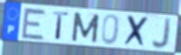0: (100, 13, 121, 46)
E: (20, 6, 48, 42)
J: (150, 16, 173, 51)
M: (70, 11, 101, 44)
T: (52, 10, 70, 41)
X: (122, 14, 151, 49)
